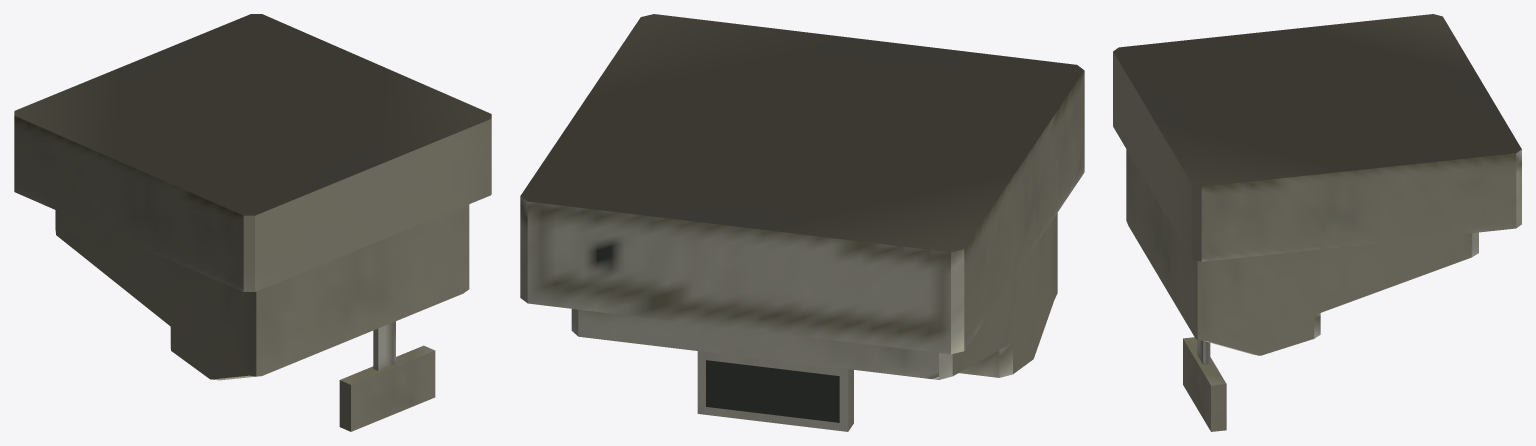
The model's file is PA_Register.fbx.
3 renders of one model, left to right at view 1: azimuth 30°, elevation 25°; view 2: azimuth 150°, elevation 25°; view 3: azimuth 270°, elevation 25°, orthographic. The views are drawn at different scales.
Visible parts, largest first — view 1: Cube; view 2: Cube; view 3: Cube.
Part boxes in pixels (x1,y1,x2,y2): Cube: (14, 14, 491, 431); Cube: (520, 14, 1084, 431); Cube: (1113, 14, 1521, 431).
Bounding box in the file's own units: 0.7929 × 0.5778 × 0.7929.
